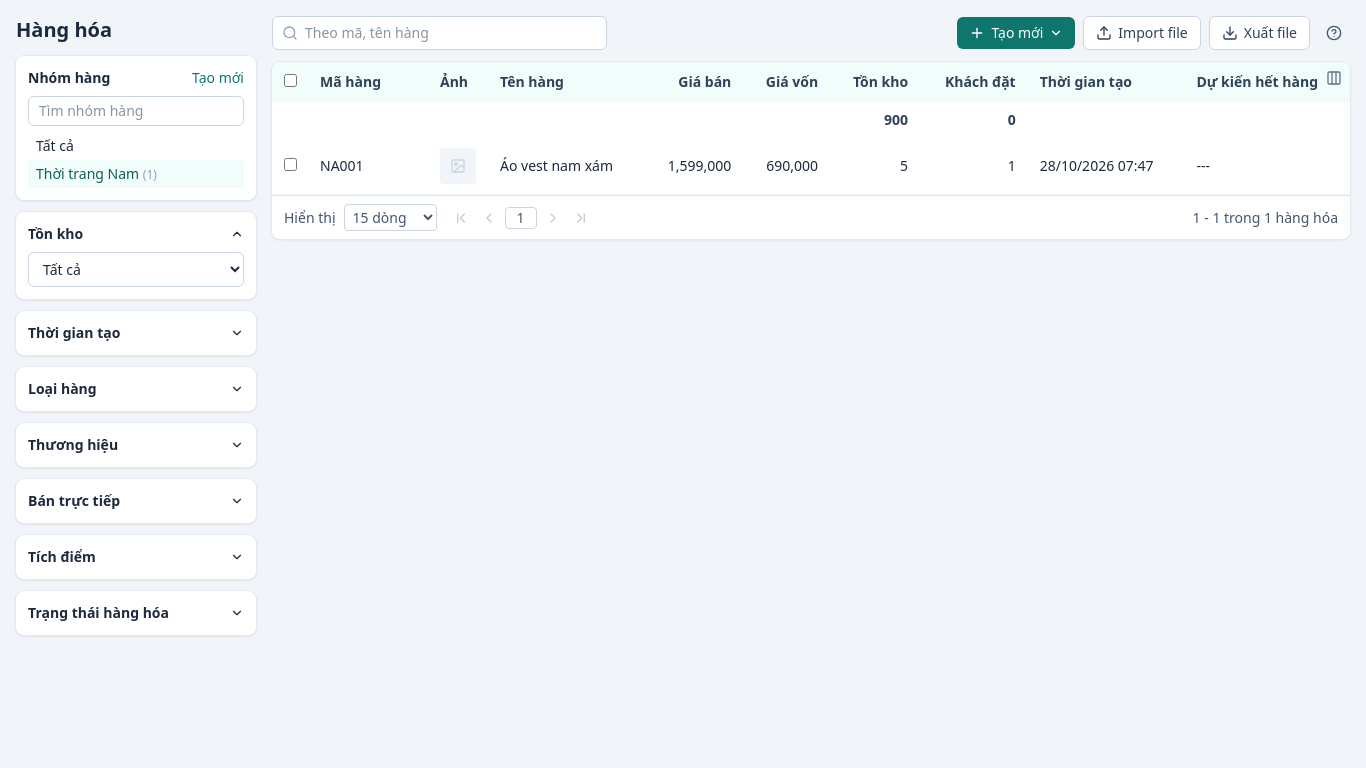
Test: expanding a row shows the stock card tab
Click the text "Áo vest nam xám" at (557,166), box [500,156,613,175]
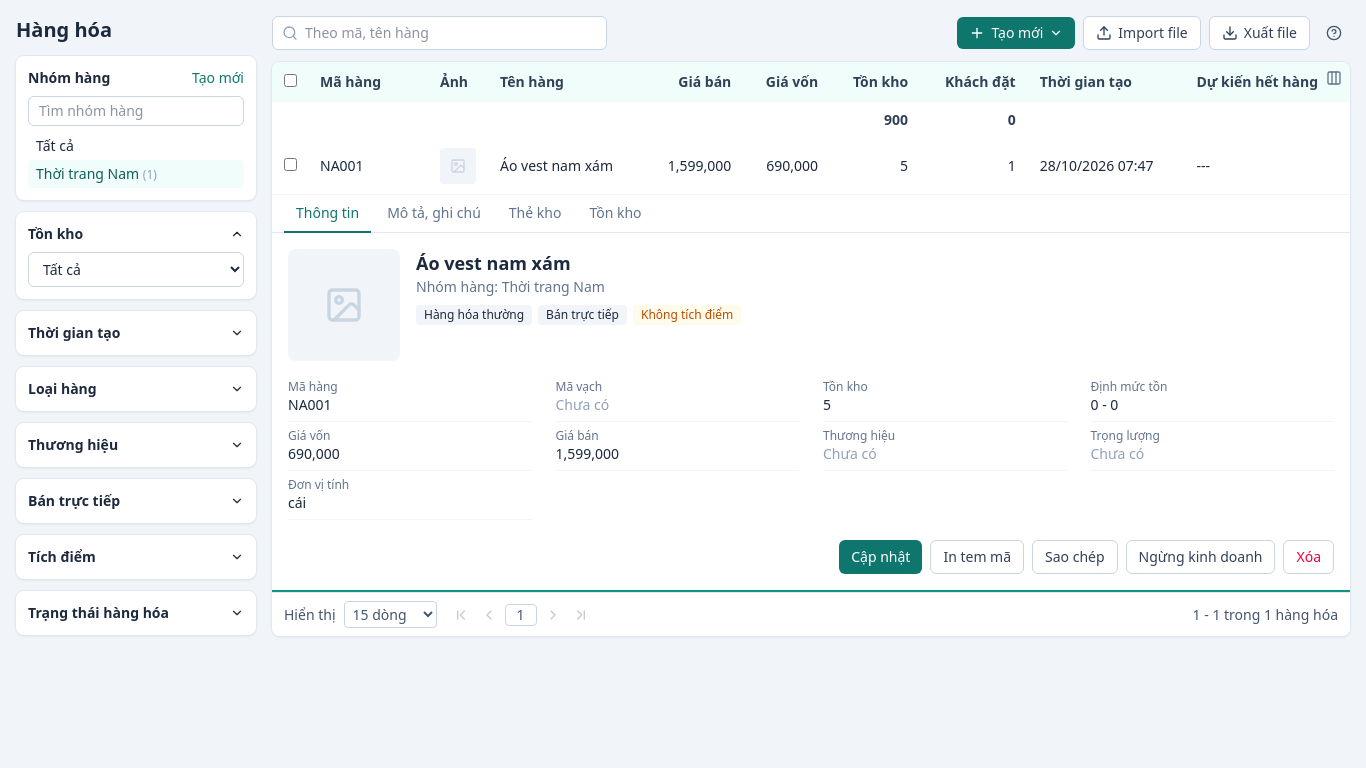
Click the tab "Thẻ kho" at (535,214), box [497,195,573,233]
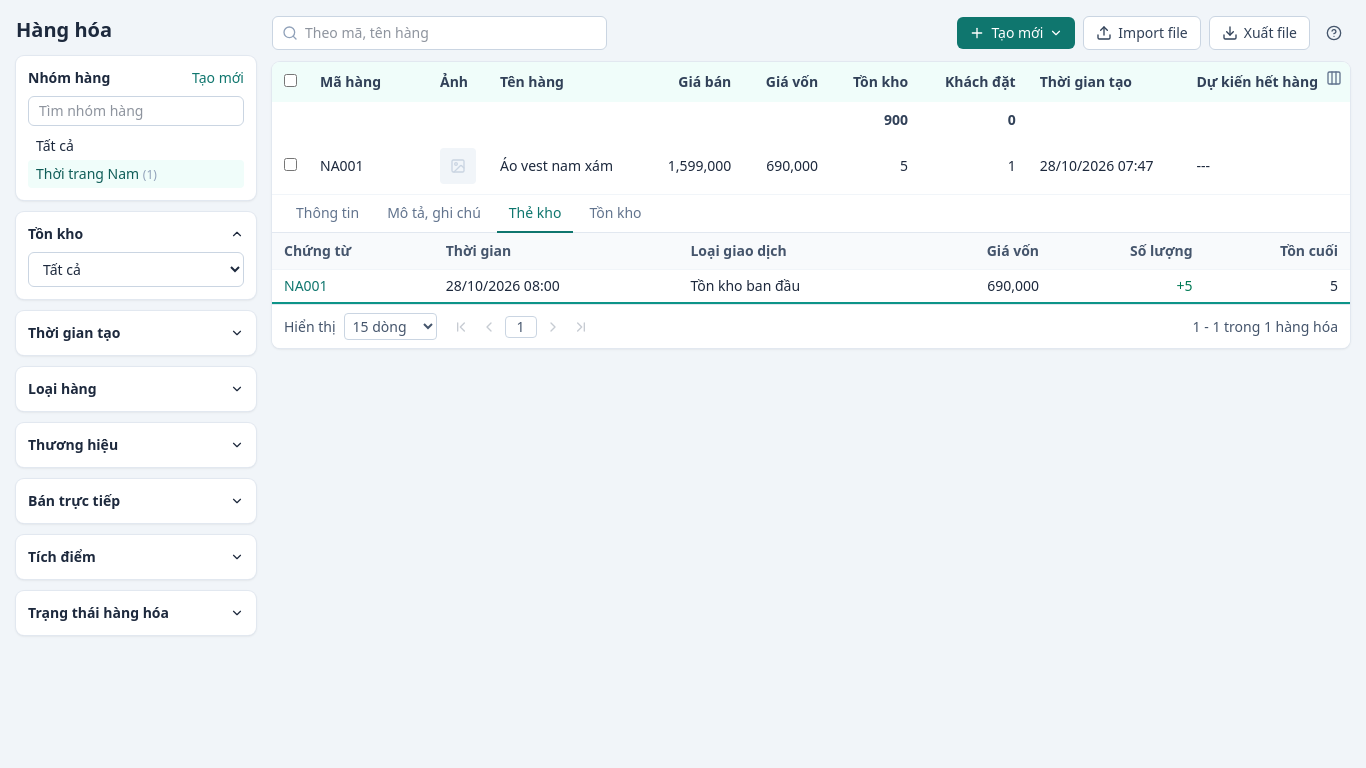
Check: the text "Tồn kho ban đầu" is shown, box [678,270,916,302]
